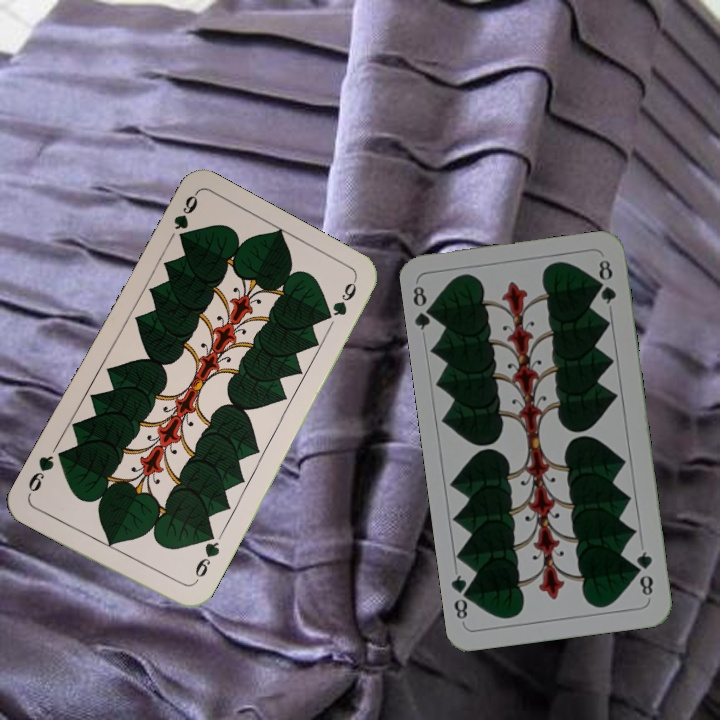G8: (409, 282, 439, 333), (631, 547, 656, 599)
G9: (187, 531, 222, 588), (169, 190, 201, 245)
